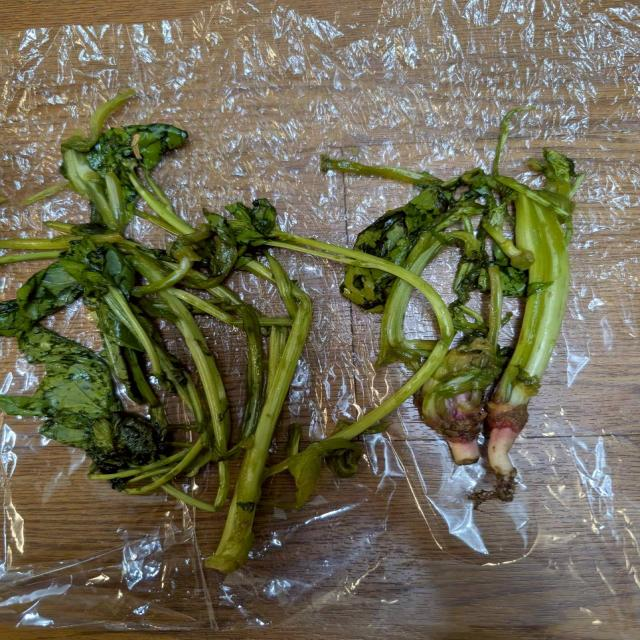rotten spinach: (12, 63, 571, 559), (13, 112, 346, 556), (332, 107, 585, 489), (392, 142, 543, 508)
